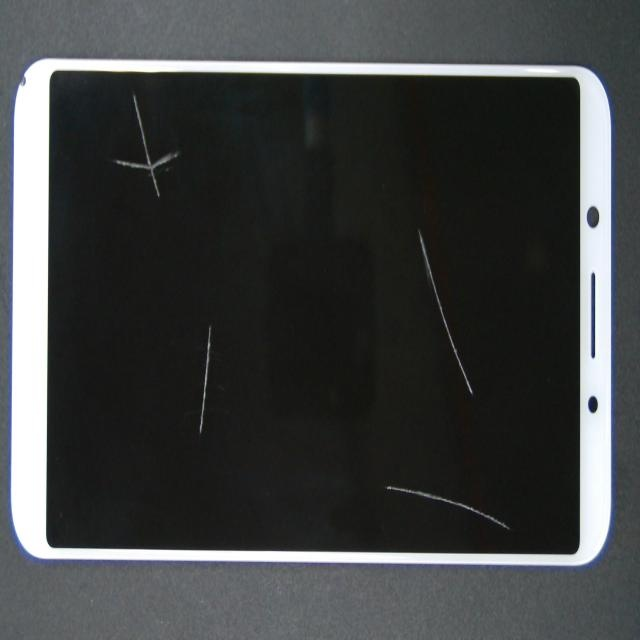scratch: (342, 297, 640, 640), (277, 294, 640, 504), (124, 144, 329, 456), (64, 77, 229, 298)
